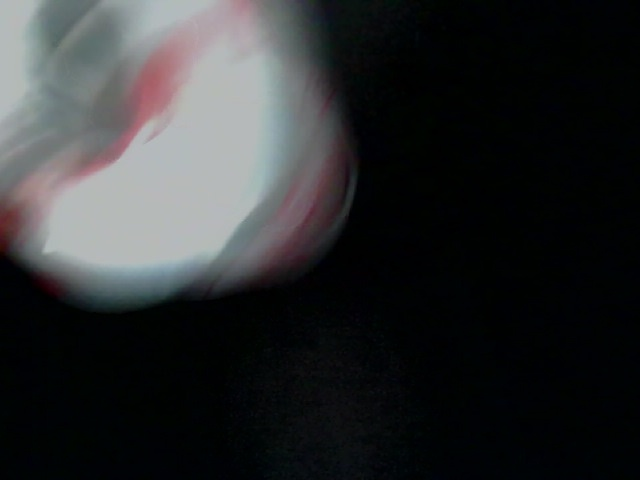CYLJ: (499, 333, 639, 480)
